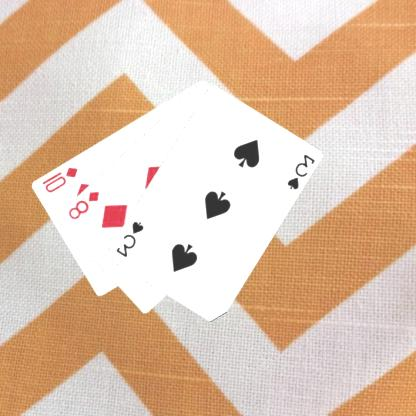10D: (41, 164, 80, 194)
3S: (114, 218, 147, 258), (286, 152, 317, 192)
8D: (66, 189, 102, 221)
